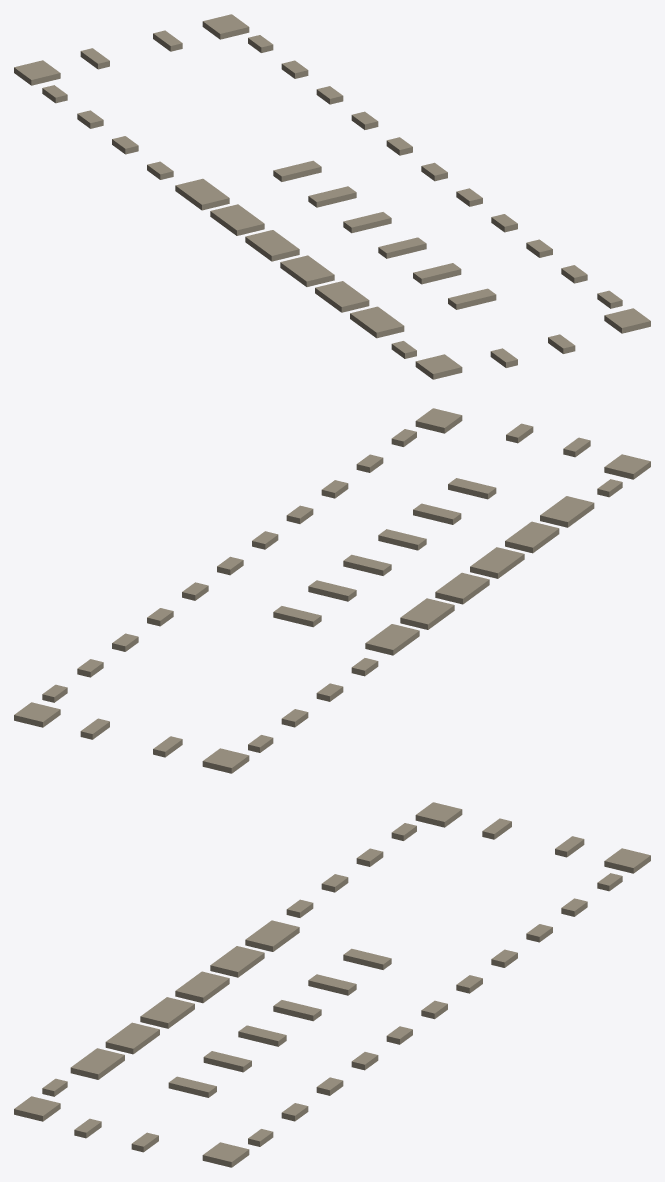
Rendered from telapak.glb.
3 renders of one model, top to bottom at view 1: azimuth 30°, elevation 25°; view 2: azimuth 150°, elevation 25°; view 3: azimuth 330°, elevation 25°, orthographic.
Parts seen in each view (by area): view 1: telapak; view 2: telapak; view 3: telapak.
Part boxes in pixels (box(x1,y1,x2,y2)): telapak: box(14, 14, 650, 379); telapak: box(14, 408, 650, 773); telapak: box(14, 802, 650, 1167).
Bounding box in the file's own units: 18 × 0.45 × 60.9.
